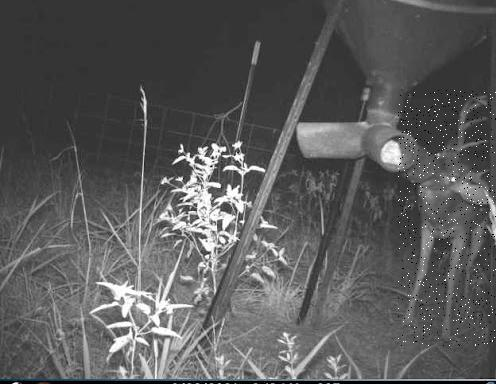Deer: (398, 89, 496, 347)
